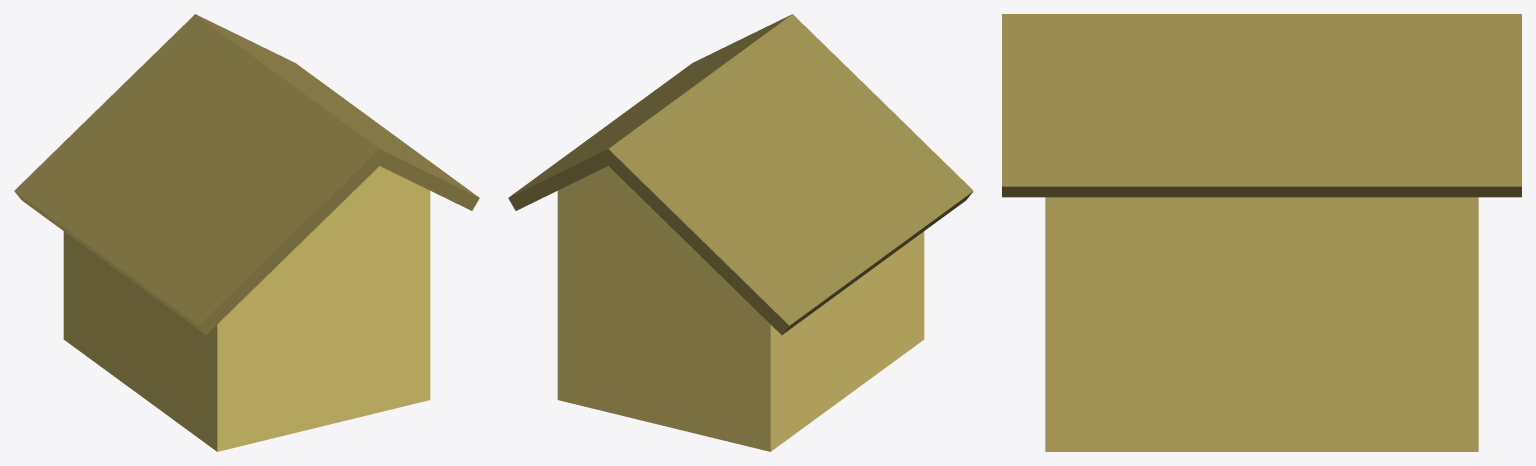
Rendered from result.glb.
3 renders of one model, left to right at view 1: azimuth 30°, elevation 25°; view 2: azimuth 150°, elevation 25°; view 3: azimuth 270°, elevation 25°, orthographic. The views are drawn at different scales.
Parts seen in each view (by area): view 1: da17f519-acca-42e7-af49-226074d928fe__undefined (×2), f04fe104-73ea-4b74-8354-b28275a30f69__undefined; view 2: da17f519-acca-42e7-af49-226074d928fe__undefined (×2), f04fe104-73ea-4b74-8354-b28275a30f69__undefined; view 3: f04fe104-73ea-4b74-8354-b28275a30f69__undefined, da17f519-acca-42e7-af49-226074d928fe__undefined.
Part boxes in pixels (x1,y1,x2,y2): da17f519-acca-42e7-af49-226074d928fe__undefined (×2): (14,14,479,334); f04fe104-73ea-4b74-8354-b28275a30f69__undefined: (63,166,430,451); da17f519-acca-42e7-af49-226074d928fe__undefined (×2): (508,14,973,334); f04fe104-73ea-4b74-8354-b28275a30f69__undefined: (557,166,924,451); f04fe104-73ea-4b74-8354-b28275a30f69__undefined: (1045,197,1478,451); da17f519-acca-42e7-af49-226074d928fe__undefined: (1002,14,1521,197).
Bounding box in the file's own units: 529 × 500 × 600.
